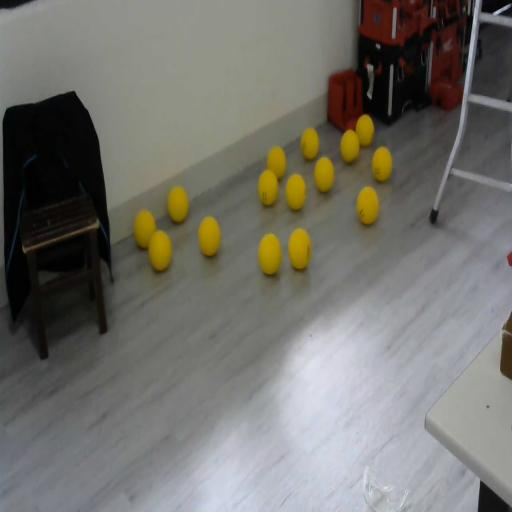FUEL: (258, 232, 282, 276), (133, 208, 157, 250), (288, 228, 312, 270), (148, 230, 172, 272), (198, 216, 222, 257), (356, 185, 378, 226), (285, 172, 307, 211), (167, 185, 188, 222), (314, 155, 334, 193), (258, 169, 278, 206), (372, 146, 392, 182), (340, 130, 360, 164), (267, 145, 286, 180), (300, 127, 320, 160), (356, 114, 374, 147)
